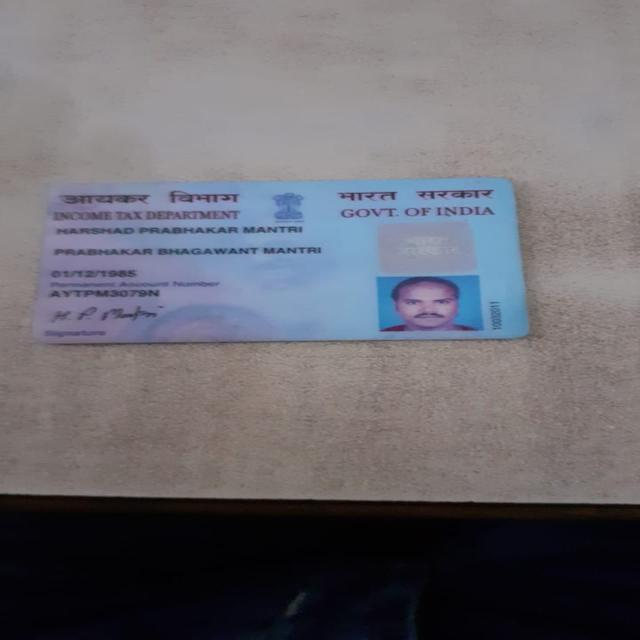pan_card: (33, 179, 526, 348)
